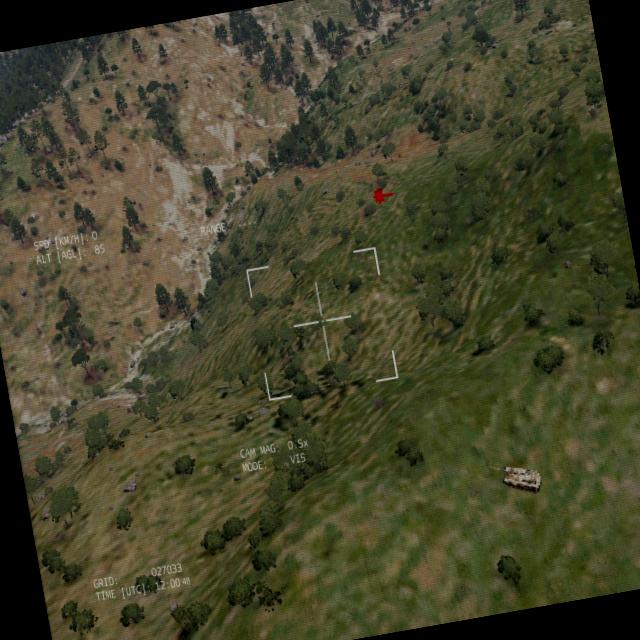tank: (486, 455, 543, 501)
